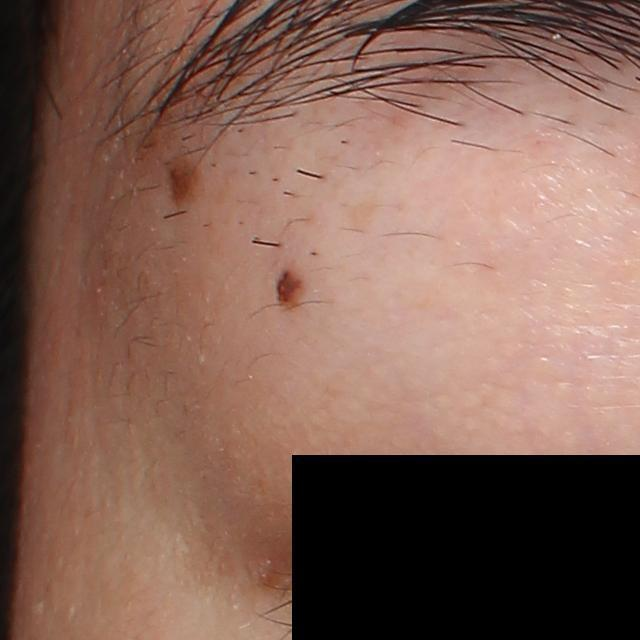nevus: (165, 147, 212, 213), (269, 260, 313, 309)
